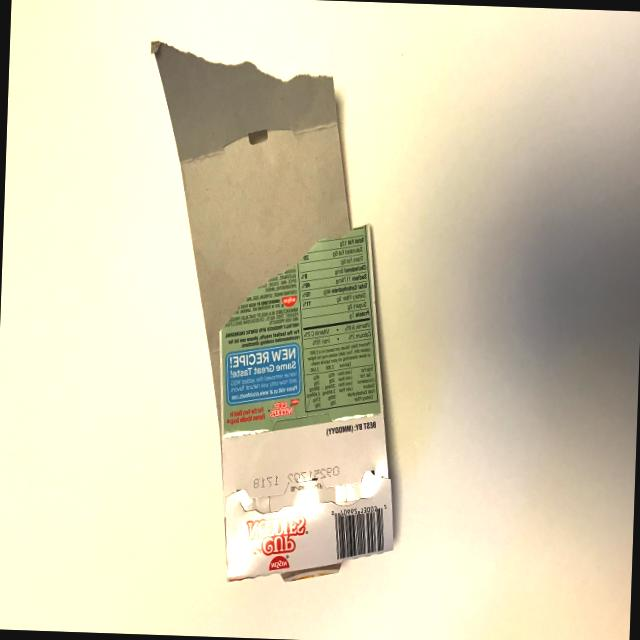Paper: (125, 33, 419, 592)
